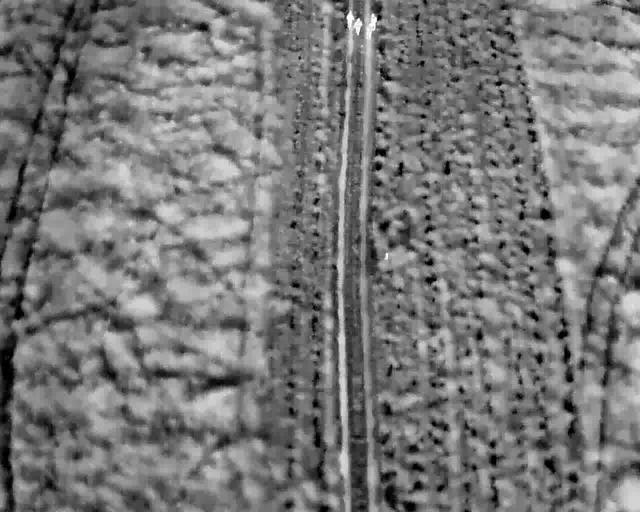person: (344, 9, 355, 29), (364, 18, 374, 40), (352, 17, 363, 36), (368, 12, 378, 30)
